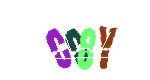8: (47, 0, 127, 80)
C: (18, 0, 98, 80), (34, 0, 114, 80)
Y: (52, 0, 132, 80)
